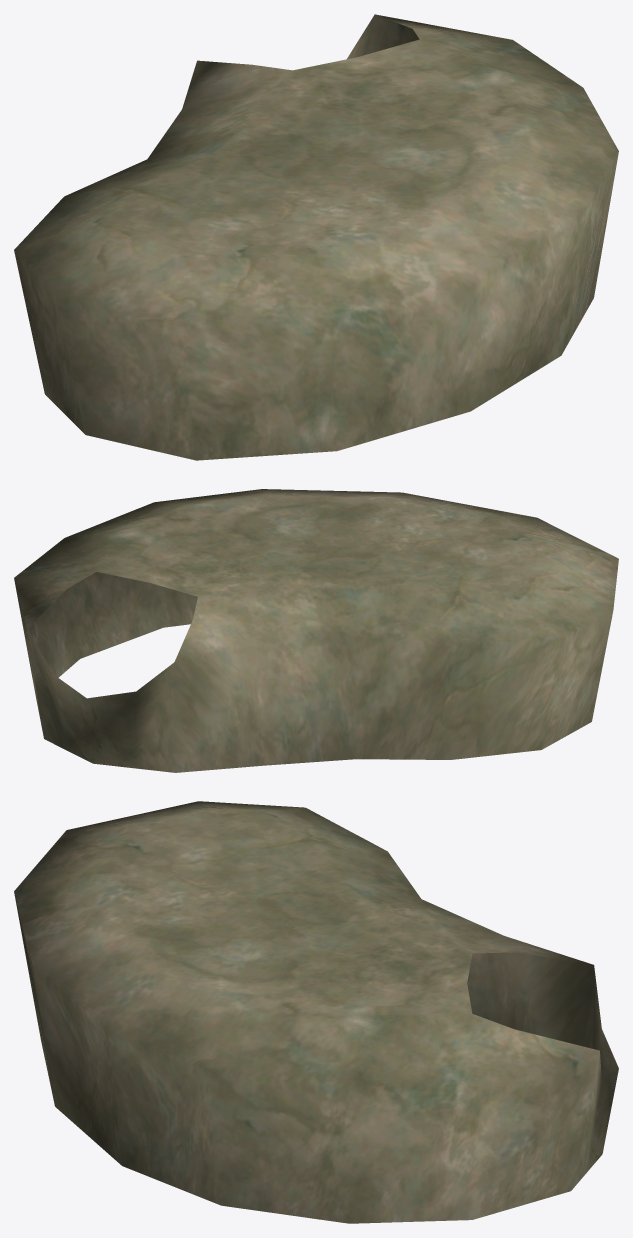
The model's file is EKH_CAVERNS_PS_CA_ROCK_002.fbx.
The picture shows the model from 3 angles, top to bottom: view 1: azimuth 30°, elevation 25°; view 2: azimuth 150°, elevation 25°; view 3: azimuth 270°, elevation 25°; orthographic projection. The views are drawn at different scales.
Parts seen in each view (by area): view 1: EKH_CAVERNS_PS_CA_ROCK_002; view 2: EKH_CAVERNS_PS_CA_ROCK_002; view 3: EKH_CAVERNS_PS_CA_ROCK_002.
Part boxes in pixels (bbox=[...]): EKH_CAVERNS_PS_CA_ROCK_002: bbox=[14, 14, 618, 460]; EKH_CAVERNS_PS_CA_ROCK_002: bbox=[14, 489, 618, 772]; EKH_CAVERNS_PS_CA_ROCK_002: bbox=[14, 801, 618, 1223].
Size of the model in its own units: 49182 by 13573 by 43653.
1 material, 1 textured.
